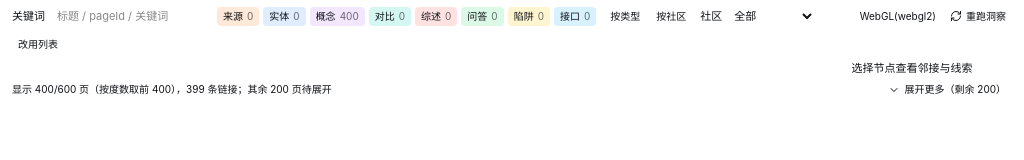
Test: KbWikiGraph — 画布模式（WebGL 可用） › 大图先按预算过滤，展开后隐藏数量下降
Check: the text with test id "kb-graph-coverage" shows "其余 200 页待展开", box [12, 83, 332, 95]
Click the button with test id "kb-graph-expand" at (947, 90), box [882, 80, 1012, 99]
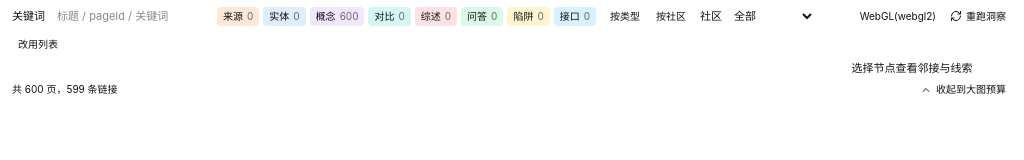
Check: the text with test id "kb-graph-coverage" shows "共 600 页", box [12, 83, 118, 95]
